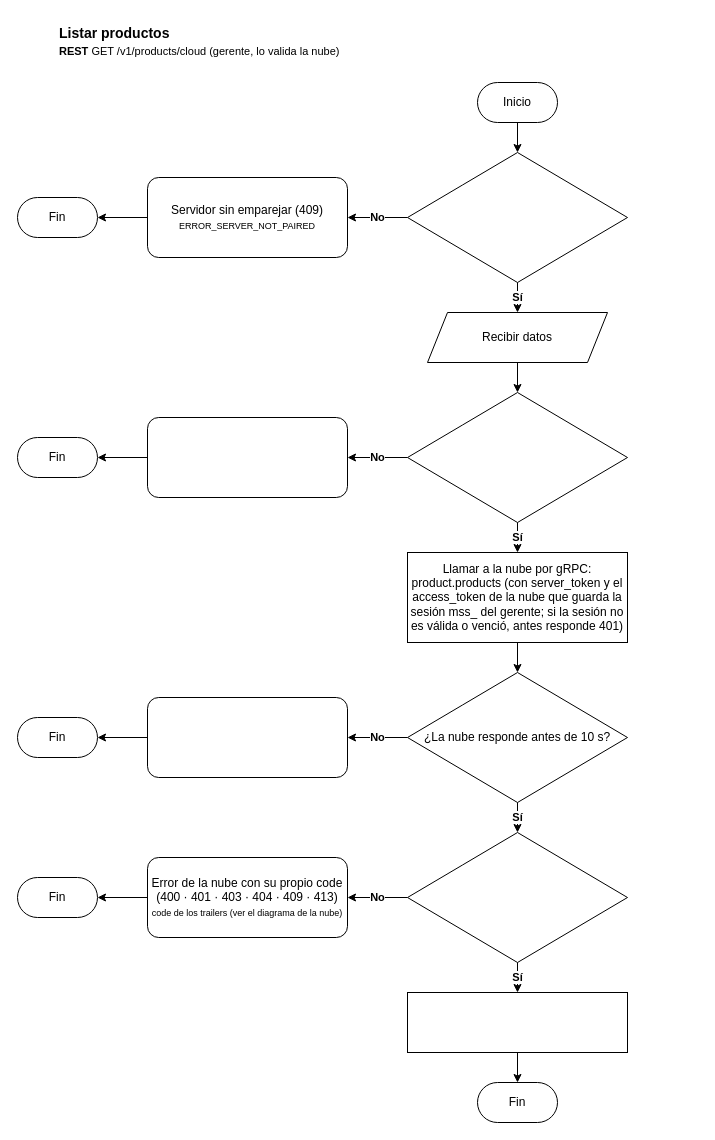
Some shapes in this 715 by 1140 pixel diagram are drawn without their labels. The shapes that lost their labels are listed below. From the top down, each one's centre as x and y in pixels, then its label:
the point at 517,217: ¿El servidor ya se emparejó alguna vez (pairing_status distinto de unpaired)?
the point at 247,457: Datos inválidos (400) ERROR_BAD_REQUEST
the point at 517,457: ¿Los datos son válidos?
the point at 247,737: La nube no responde (503) ERROR_CLOUD_UNAVAILABLE · ERROR_SERVER_UNLINKED
the point at 517,897: ¿La nube acepta la petición?
the point at 517,1022: Responder 200 con el mensaje PRODUCTS_RETRIEVED
